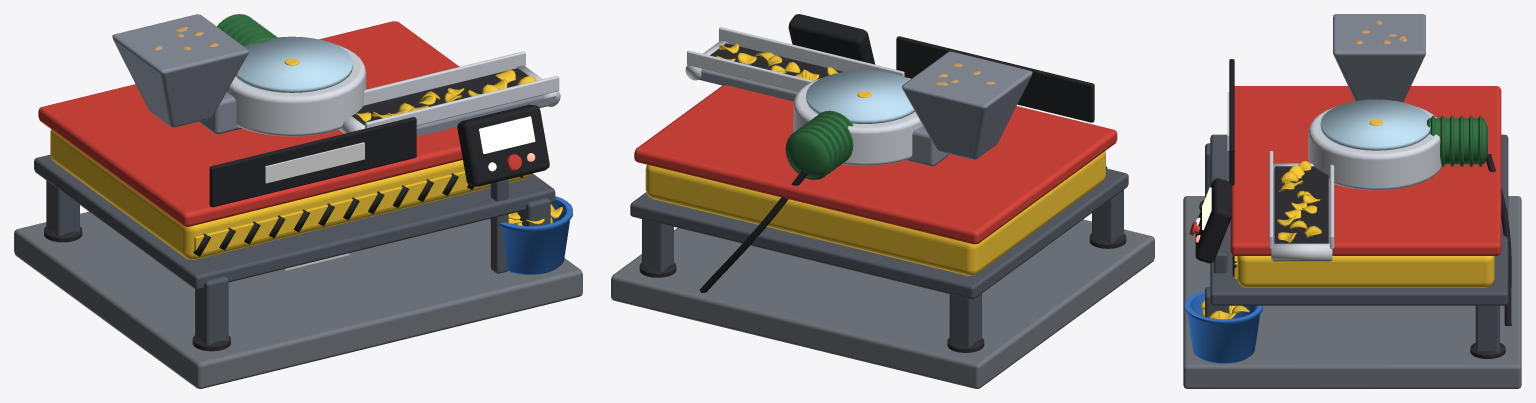
Rendered from Slicer.fbx.
3 renders of one model, left to right at view 1: azimuth 30°, elevation 25°; view 2: azimuth 150°, elevation 25°; view 3: azimuth 270°, elevation 25°, orthographic. The views are drawn at different scales.
Visible parts, largest first — view 1: Body__Plate, Body__Red, Body__MetalDark, Body__Yellow, Body__Black, Body__Chrome, Body__Steel, Body__Glass, Body__Blue, Body__Rubber, Body__NeonYellow!1, Body__NeonGreen (+2 smaller); view 2: Body__Plate, Body__Red, Body__MetalDark, Body__Yellow, Body__Steel, Body__Black, Body__Chrome, Body__Glass, Body__GreenDark, Body__Rubber, Chips__Yellow; view 3: Body__Red, Body__Plate, Body__MetalDark, Body__Yellow, Body__Chrome, Body__Steel, Body__Glass, Body__Black, Body__Blue, Body__Rubber, Body__GreenDark, Chips__Yellow (+1 smaller).
Boxes of the visible parts, bbox=[...] form: Body__Plate: bbox=[14, 211, 582, 388]; Body__Red: bbox=[38, 21, 521, 226]; Body__MetalDark: bbox=[34, 154, 555, 345]; Body__Yellow: bbox=[50, 129, 562, 259]; Body__Black: bbox=[193, 104, 549, 256]; Body__Chrome: bbox=[227, 44, 560, 136]; Body__Steel: bbox=[112, 14, 556, 136]; Body__Glass: bbox=[235, 36, 352, 92]; Body__Blue: bbox=[489, 196, 572, 274]; Body__Rubber: bbox=[44, 68, 528, 351]; Body__NeonYellow!1: bbox=[265, 142, 364, 183]; Body__NeonGreen: bbox=[479, 116, 535, 171]; Body__Plate: bbox=[611, 219, 1154, 388]; Body__Red: bbox=[634, 85, 1117, 244]; Body__MetalDark: bbox=[630, 168, 1128, 346]; Body__Yellow: bbox=[645, 151, 1105, 275]; Body__Steel: bbox=[694, 51, 1032, 166]; Body__Black: bbox=[699, 14, 1106, 292]; Body__Chrome: bbox=[685, 27, 922, 165]; Body__Glass: bbox=[806, 70, 914, 123]; Body__GreenDark: bbox=[785, 110, 853, 179]; Body__Rubber: bbox=[639, 43, 1126, 352]; Chips__Yellow: bbox=[716, 43, 837, 80]; Body__Red: bbox=[1189, 86, 1501, 255]; Body__Plate: bbox=[1183, 196, 1521, 388]; Body__MetalDark: bbox=[1205, 134, 1508, 351]; Body__Yellow: bbox=[1201, 256, 1494, 319]; Body__Chrome: bbox=[1269, 106, 1441, 260]; Body__Steel: bbox=[1272, 14, 1425, 261]; Body__Glass: bbox=[1320, 99, 1430, 150]; Body__Black: bbox=[1195, 59, 1511, 325]; Body__Blue: bbox=[1184, 290, 1262, 363]; Body__Rubber: bbox=[1199, 166, 1505, 358]; Body__GreenDark: bbox=[1427, 115, 1487, 166]; Chips__Yellow: bbox=[1277, 161, 1321, 242].
Size of the model in its own units: 6.38 by 4.21 by 5.
